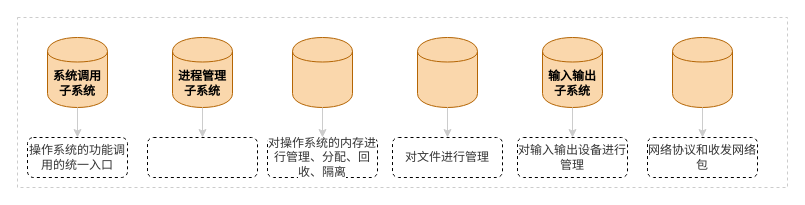
This 805x205 diagram has some shape labels left out. The shapes that lost their labels are listed below. From the top down, each one's centre as x and y in pixels, then its label:
the point at 322,72: 内存管理子系统
the point at 447,72: 文件 子系统
the point at 702,72: 网络 子系统
the point at 202,157: 对执行的程序进行生命周期和资源管理
